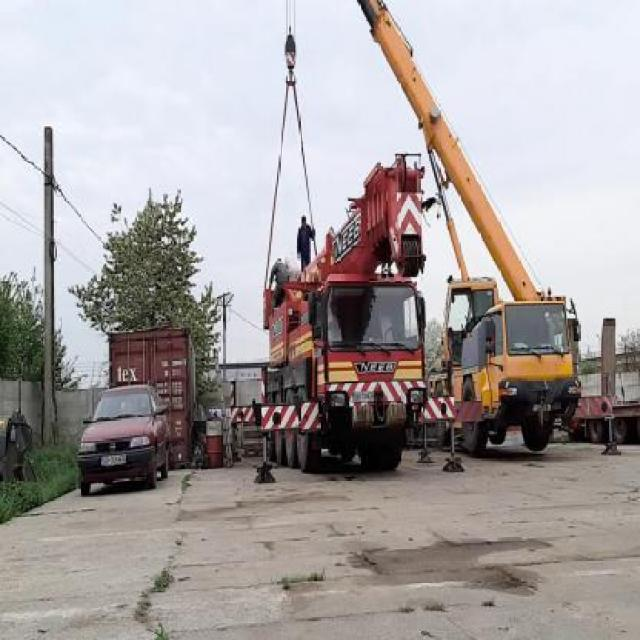Mobile Crane: (430, 0, 618, 457), (254, 148, 452, 484)
